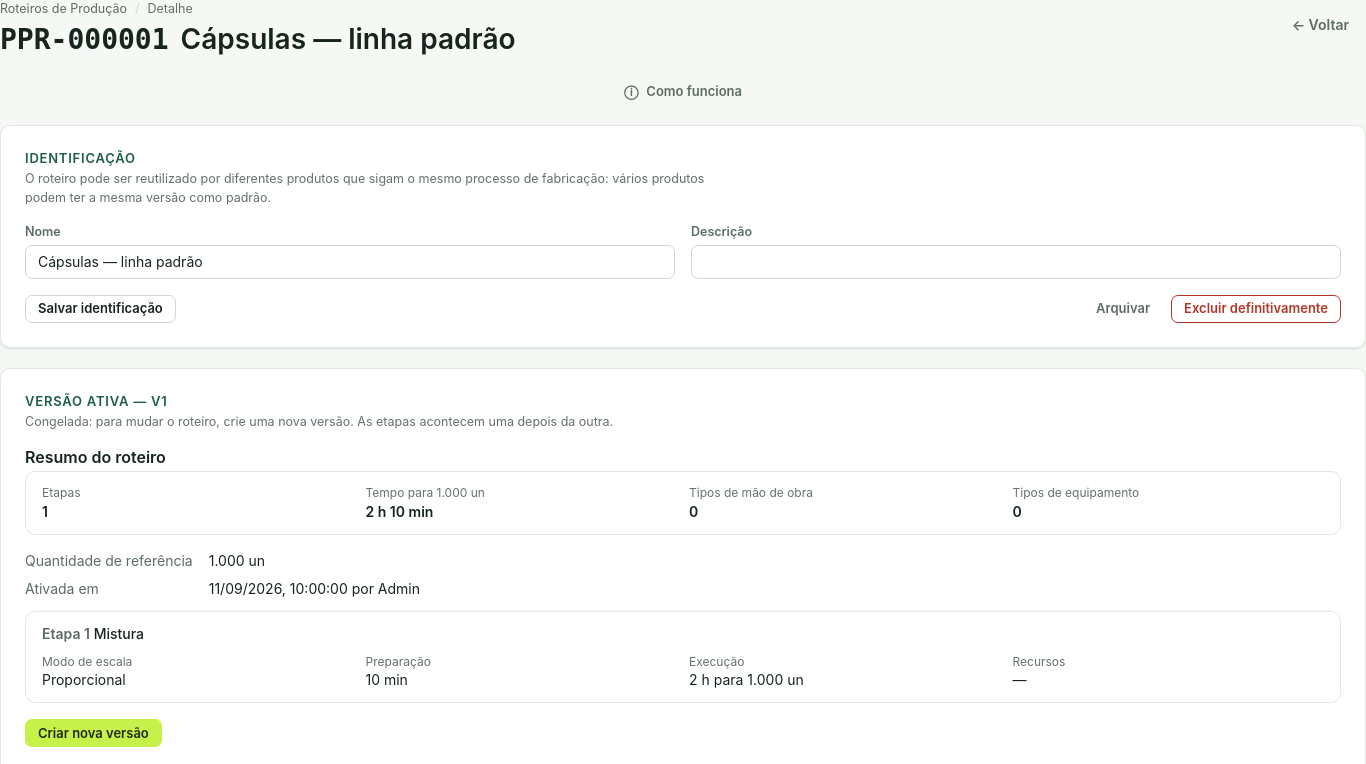
Scenario: Roteiro de Produção — Arquivar e Desarquivar › cancelar a confirmação não grava nada
Check: the heading "PPR-000001 Cápsulas — linha padrão" is shown, box [0,22,516,57]
Click the button "Arquivar": (1123, 309) [1083,295,1163,323]
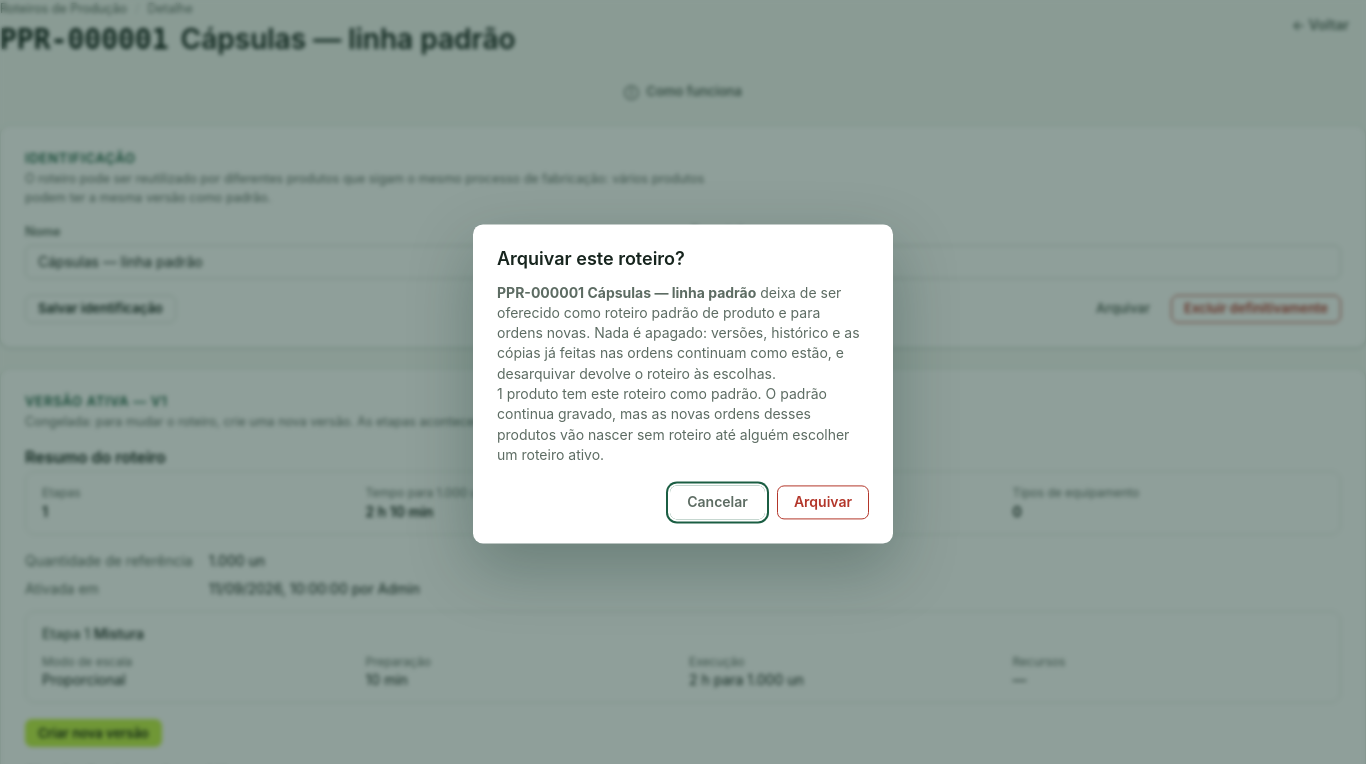
Click the button "Cancelar": (718, 503) [670,486,765,520]
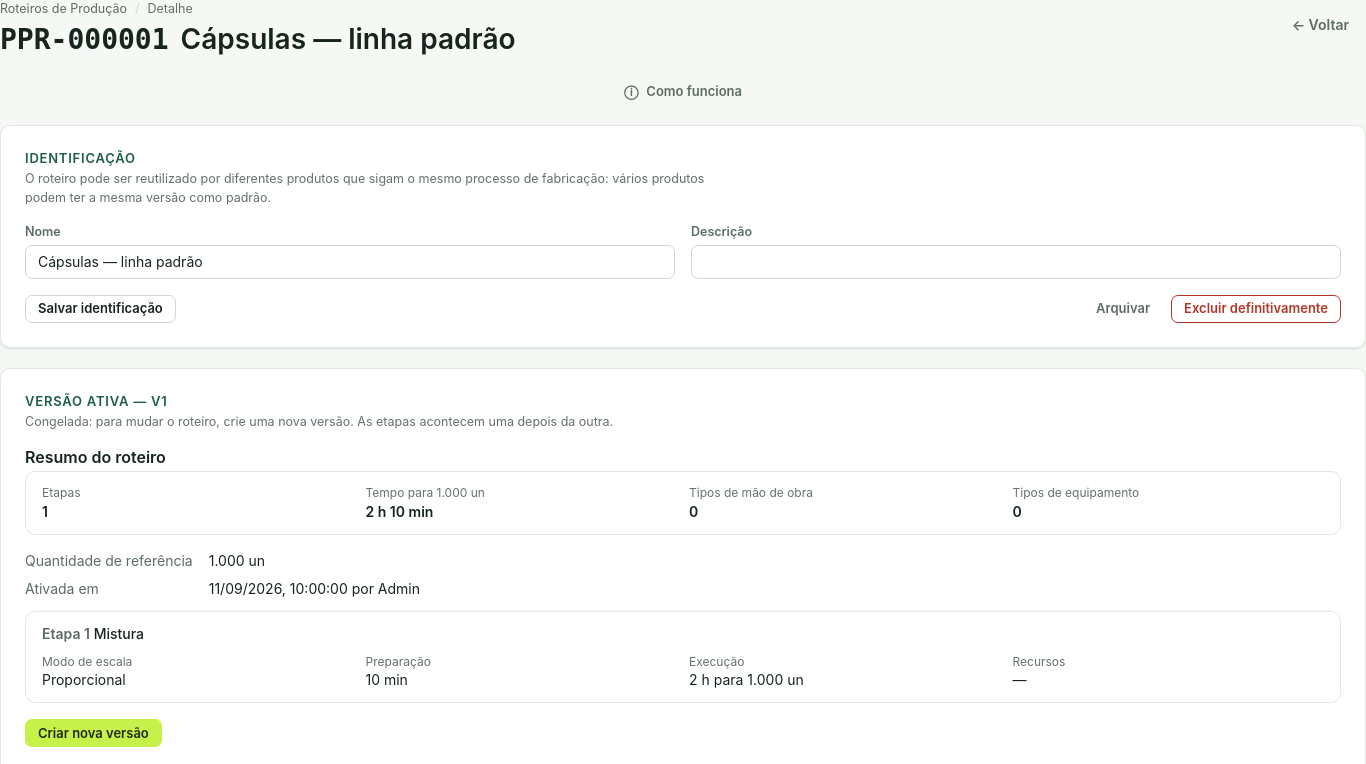
Check: the dialog is gone
